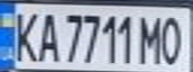1: (115, 11, 139, 64), (100, 11, 121, 64)
7: (60, 9, 84, 63), (78, 10, 100, 63)
A: (33, 8, 60, 63)
K: (6, 7, 42, 64)
M: (136, 11, 166, 65)
O: (157, 11, 190, 65)
